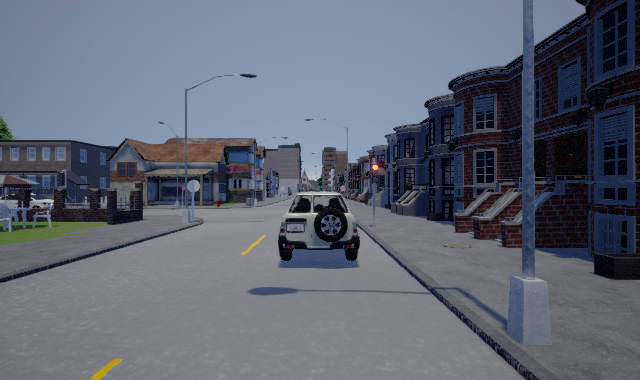traffic_light: (371, 163, 379, 183)
traffic_sign: (339, 184, 346, 191)
vehicle: (278, 191, 360, 261), (1, 192, 55, 210)
